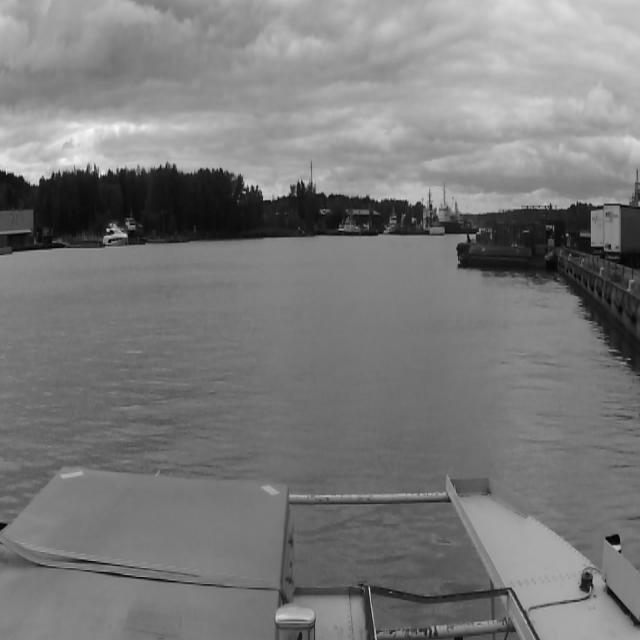ship: (438, 188, 469, 228), (104, 224, 128, 246), (384, 210, 400, 233), (338, 221, 360, 235)
